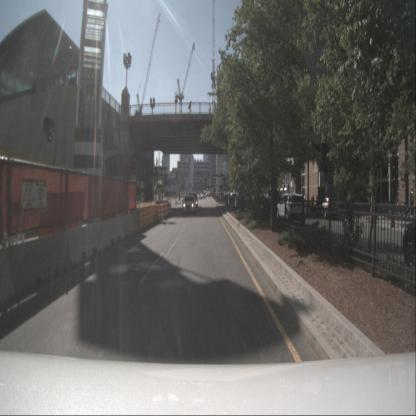barrier: (6, 231, 70, 300), (67, 220, 105, 269), (0, 246, 18, 311), (100, 215, 126, 249), (121, 213, 140, 238)
cone: (156, 203, 161, 222), (160, 202, 165, 220), (165, 202, 169, 218), (166, 202, 170, 217), (168, 202, 172, 216)
